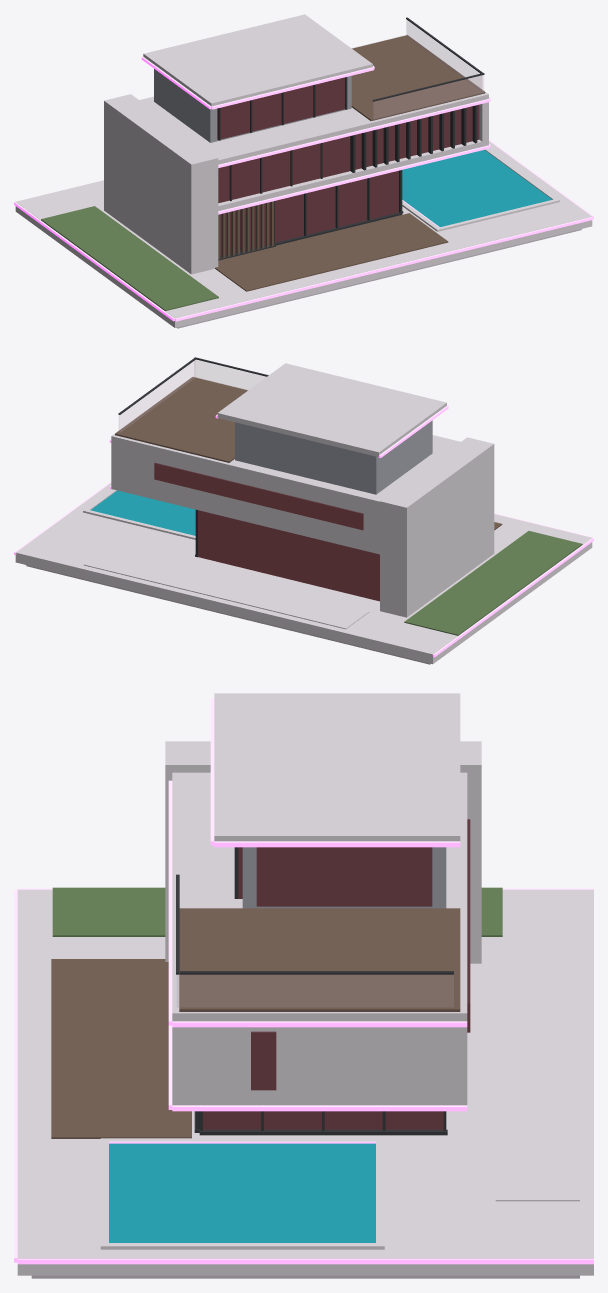
The model's file is pink-house.glb.
The picture shows the model from 3 angles, top to bottom: view 1: azimuth 30°, elevation 25°; view 2: azimuth 150°, elevation 25°; view 3: azimuth 270°, elevation 25°; orthographic projection. The views are drawn at different scales.
Parts seen in each view (by area): view 1: WhiteRender, SmokedGlass, Timber, Limestone, Water, Lawn, Graphite, ClearGlass, Cladding, LED_Plinth_Front, LED_FirstFloor_Front, LED_FirstFloorRoof_Front (+3 smaller); view 2: WhiteRender, Limestone, SmokedGlass, Cladding, Lawn, Timber, Water, ClearGlass, LED_Plinth_Left, PlinthReveal, Graphite; view 3: Limestone, WhiteRender, Timber, Water, SmokedGlass, ClearGlass, Lawn, LED_Plinth_Right, Graphite, Cladding, PlinthReveal, LED_FirstFloor_Right (+5 smaller).
Part boxes in pixels (box(x1,y1,x2,y2)): WhiteRender: box(104, 14, 488, 274); SmokedGlass: box(217, 77, 479, 255); Timber: box(215, 35, 485, 291); Limestone: box(15, 141, 592, 327); Water: box(402, 150, 552, 226); Lawn: box(41, 206, 218, 310); Graphite: box(218, 17, 484, 260); ClearGlass: box(373, 20, 483, 119); Cladding: box(154, 69, 351, 142); LED_Plinth_Front: box(175, 217, 593, 321); LED_FirstFloor_Front: box(218, 145, 489, 214); LED_FirstFloorRoof_Front: box(218, 99, 489, 167); WhiteRender: box(111, 363, 494, 617); Limestone: box(15, 483, 592, 664); SmokedGlass: box(154, 462, 379, 601); Cladding: box(235, 420, 432, 494); Lawn: box(404, 531, 582, 635); Timber: box(115, 377, 502, 530); Water: box(90, 490, 195, 535); ClearGlass: box(119, 360, 265, 432); LED_Plinth_Left: box(433, 538, 593, 657); PlinthReveal: box(26, 565, 430, 664); Graphite: box(118, 357, 268, 557); Limestone: box(17, 889, 593, 1275); WhiteRender: box(165, 693, 481, 1105); Timber: box(51, 908, 460, 1138); Water: box(109, 1143, 375, 1242); SmokedGlass: box(203, 819, 470, 1129); ClearGlass: box(177, 975, 453, 1007); Lawn: box(52, 887, 502, 936); LED_Plinth_Right: box(17, 1258, 593, 1264); Graphite: box(176, 847, 453, 1135); Cladding: box(242, 847, 446, 908); PlinthReveal: box(31, 1275, 579, 1278); LED_FirstFloor_Right: box(172, 1105, 467, 1111).
Size of the model in its own units: 25 by 9.52 by 16.5.
